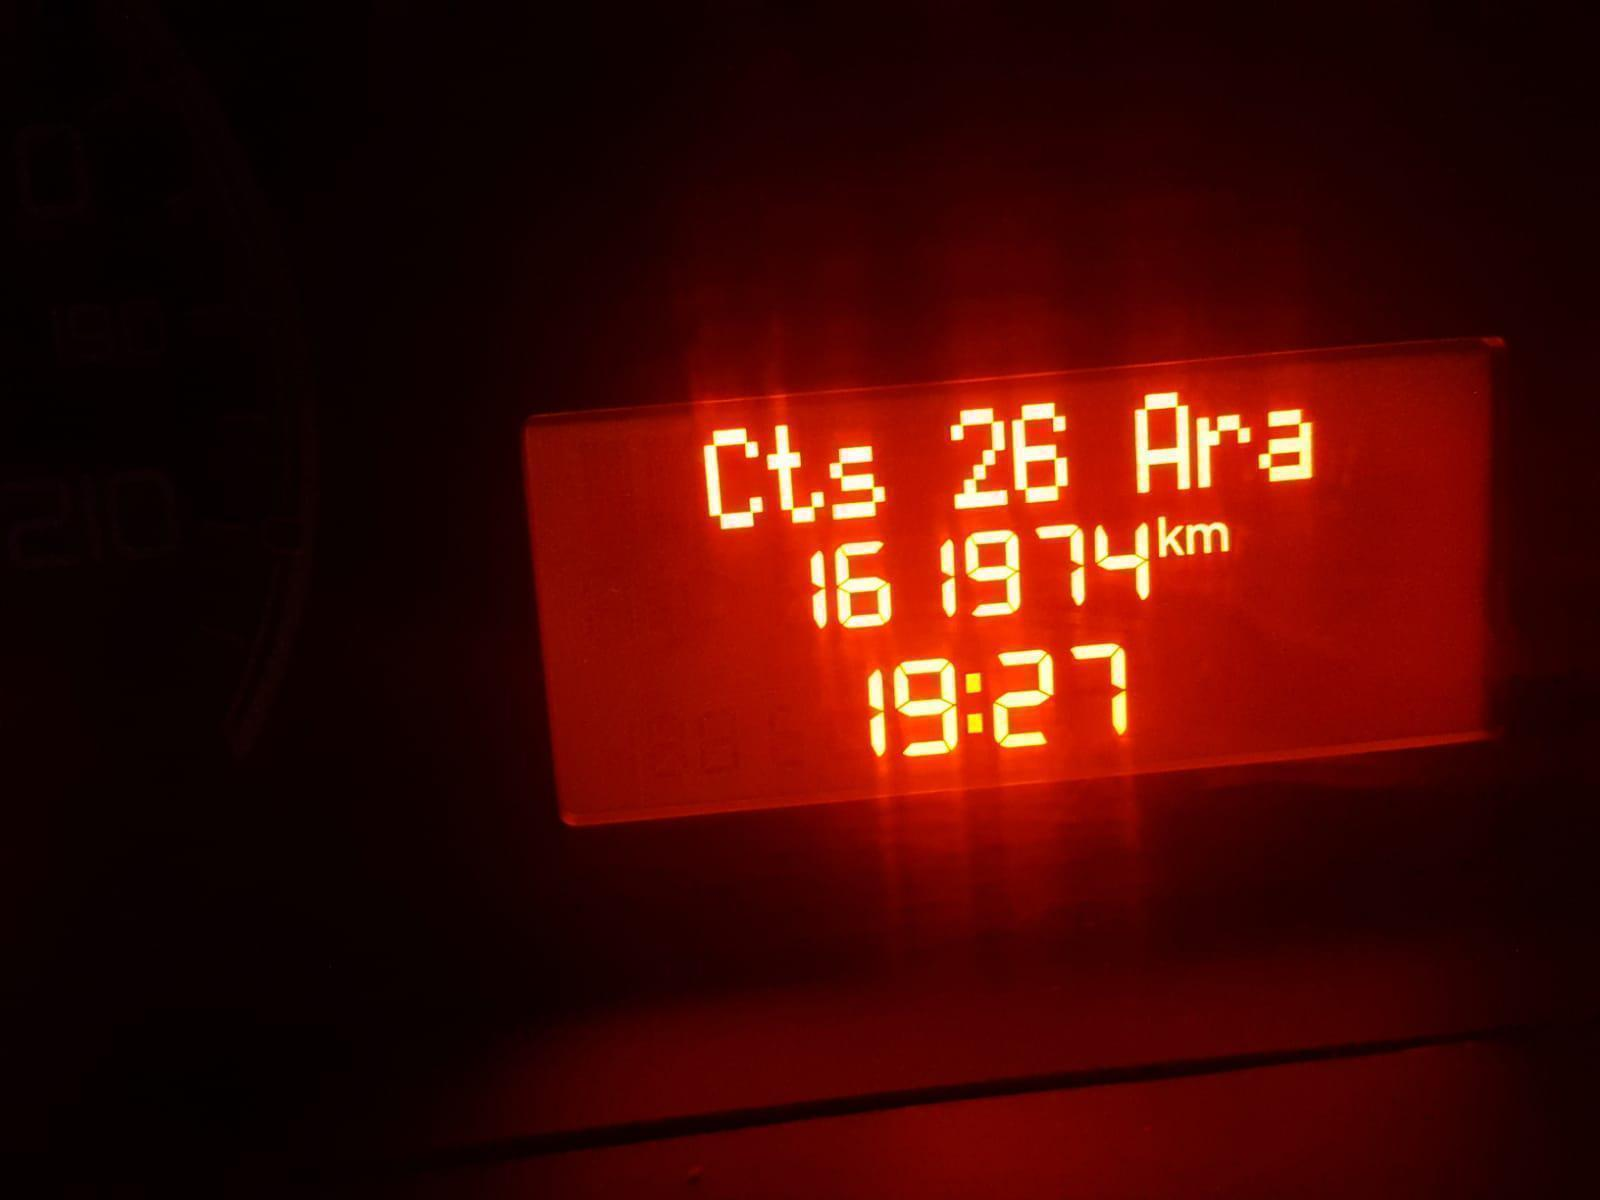1: (855, 652, 893, 763), (800, 539, 833, 633), (929, 534, 956, 621)
2: (942, 400, 1014, 516), (991, 640, 1052, 753)
4: (1094, 516, 1153, 608)
6: (1014, 393, 1076, 503), (833, 536, 900, 637)
7: (1065, 632, 1141, 745), (1032, 514, 1094, 615)
9: (889, 645, 957, 765), (963, 524, 1027, 620)
X: (702, 421, 767, 539), (1130, 384, 1196, 498), (770, 415, 830, 529), (1191, 405, 1254, 494), (828, 435, 889, 523), (1260, 396, 1314, 487), (957, 658, 991, 747), (1187, 516, 1228, 560), (1151, 508, 1186, 561)
odometer: (517, 324, 1502, 838)
